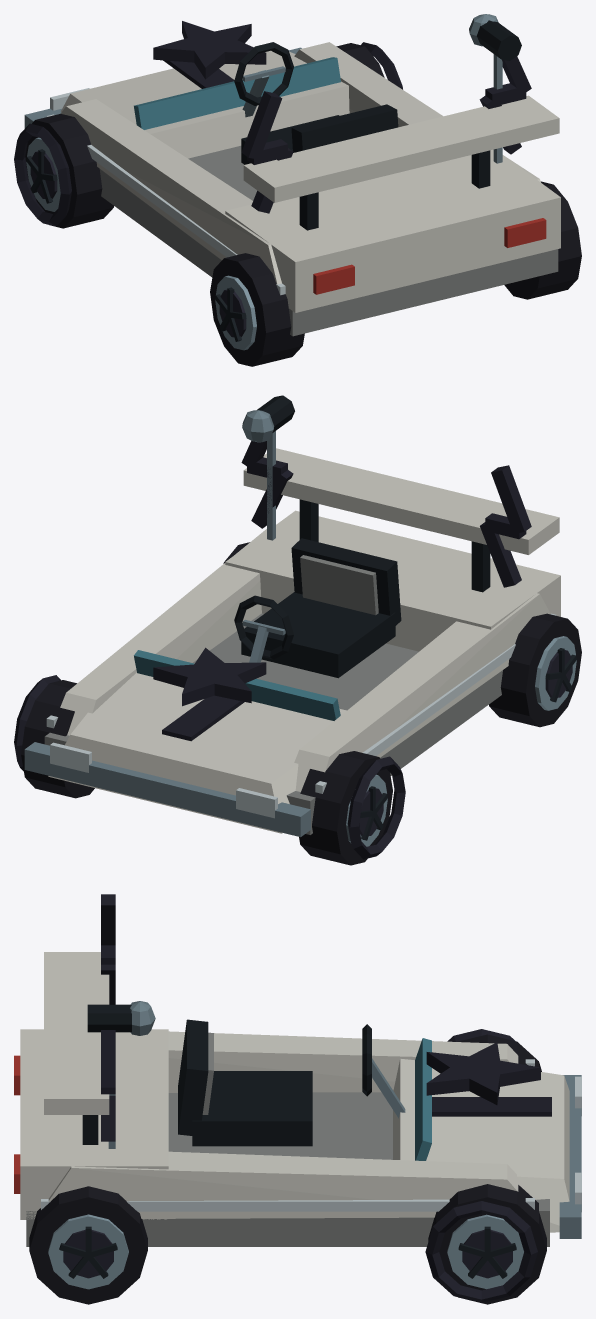
Rendered from kart.glb.
3 renders of one model, top to bottom at view 1: azimuth 30°, elevation 25°; view 2: azimuth 150°, elevation 25°; view 3: azimuth 270°, elevation 25°, orthographic. The views are drawn at different scales.
Parts seen in each view (by area): view 1: identity-sports-car-sports-car-road-car-body, wheel-rear-left, wheel-front-left, identity-sports-car-driver-cockpit, identity-sports-car-motif-neon, identity-sports-car-motif-electric, identity-sports-car-motif-star, wheel-rear-right, identity-sports-car-motif-microphone, wheel-front-right; view 2: identity-sports-car-sports-car-road-car-body, identity-sports-car-driver-cockpit, wheel-rear-left, wheel-front-left, identity-sports-car-motif-neon, identity-sports-car-motif-electric, identity-sports-car-motif-star, wheel-front-right, identity-sports-car-motif-microphone; view 3: identity-sports-car-sports-car-road-car-body, identity-sports-car-driver-cockpit, wheel-rear-right, identity-sports-car-motif-neon, wheel-front-right, identity-sports-car-motif-star, identity-sports-car-motif-electric, identity-sports-car-motif-microphone, wheel-front-left.
Boxes of the visible parts, left/top/right/bottom form: identity-sports-car-sports-car-road-car-body: left=24, top=42, right=560, bottom=336; wheel-rear-left: left=210, top=253, right=304, bottom=366; wheel-front-left: left=25, top=113, right=113, bottom=228; identity-sports-car-driver-cockpit: left=234, top=42, right=398, bottom=164; identity-sports-car-motif-neon: left=14, top=42, right=402, bottom=295; identity-sports-car-motif-electric: left=241, top=56, right=531, bottom=213; identity-sports-car-motif-star: left=153, top=21, right=266, bottom=79; wheel-rear-right: left=504, top=181, right=581, bottom=299; identity-sports-car-motif-microphone: left=469, top=14, right=521, bottom=163; wheel-front-right: left=336, top=43, right=384, bottom=77; identity-sports-car-sports-car-road-car-body: left=24, top=448, right=560, bottom=837; identity-sports-car-driver-cockpit: left=234, top=538, right=401, bottom=678; wheel-rear-left: left=489, top=613, right=581, bottom=727; wheel-front-left: left=299, top=751, right=392, bottom=865; identity-sports-car-motif-neon: left=14, top=613, right=556, bottom=859; identity-sports-car-motif-electric: left=241, top=441, right=531, bottom=587; identity-sports-car-motif-star: left=153, top=647, right=266, bottom=706; wheel-front-right: left=21, top=680, right=94, bottom=798; identity-sports-car-motif-microphone: left=242, top=395, right=294, bottom=540; identity-sports-car-sports-car-road-car-body: left=14, top=952, right=581, bottom=1246; identity-sports-car-driver-cockpit: left=178, top=1019, right=405, bottom=1146; wheel-rear-right: left=29, top=1186, right=147, bottom=1304; identity-sports-car-motif-neon: left=41, top=1029, right=537, bottom=1302; wheel-front-right: left=428, top=1184, right=546, bottom=1304; identity-sports-car-motif-star: left=426, top=1042, right=540, bottom=1104; identity-sports-car-motif-electric: left=101, top=894, right=115, bottom=1141; identity-sports-car-motif-microphone: left=87, top=1001, right=155, bottom=1148; wheel-front-left: left=458, top=1034, right=541, bottom=1071.
Bounding box in the file's own units: 2.13 × 1.57 × 2.88.
